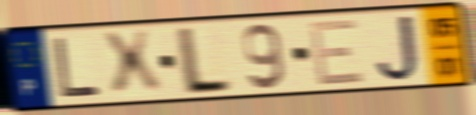9: (240, 21, 288, 92)
E: (306, 16, 368, 88)
J: (373, 13, 422, 85)
L: (176, 24, 234, 98), (50, 35, 104, 100)
X: (98, 27, 168, 101)
